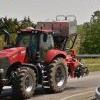Tractor: (6, 20, 79, 98)
